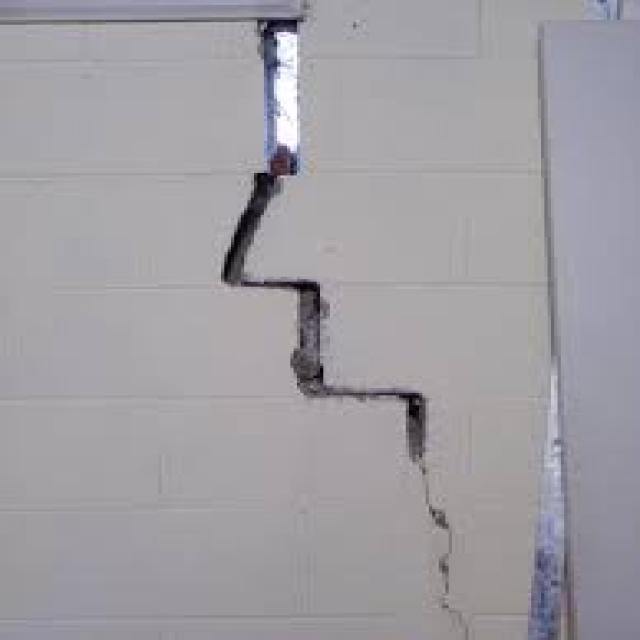Crack: (211, 18, 478, 638)
